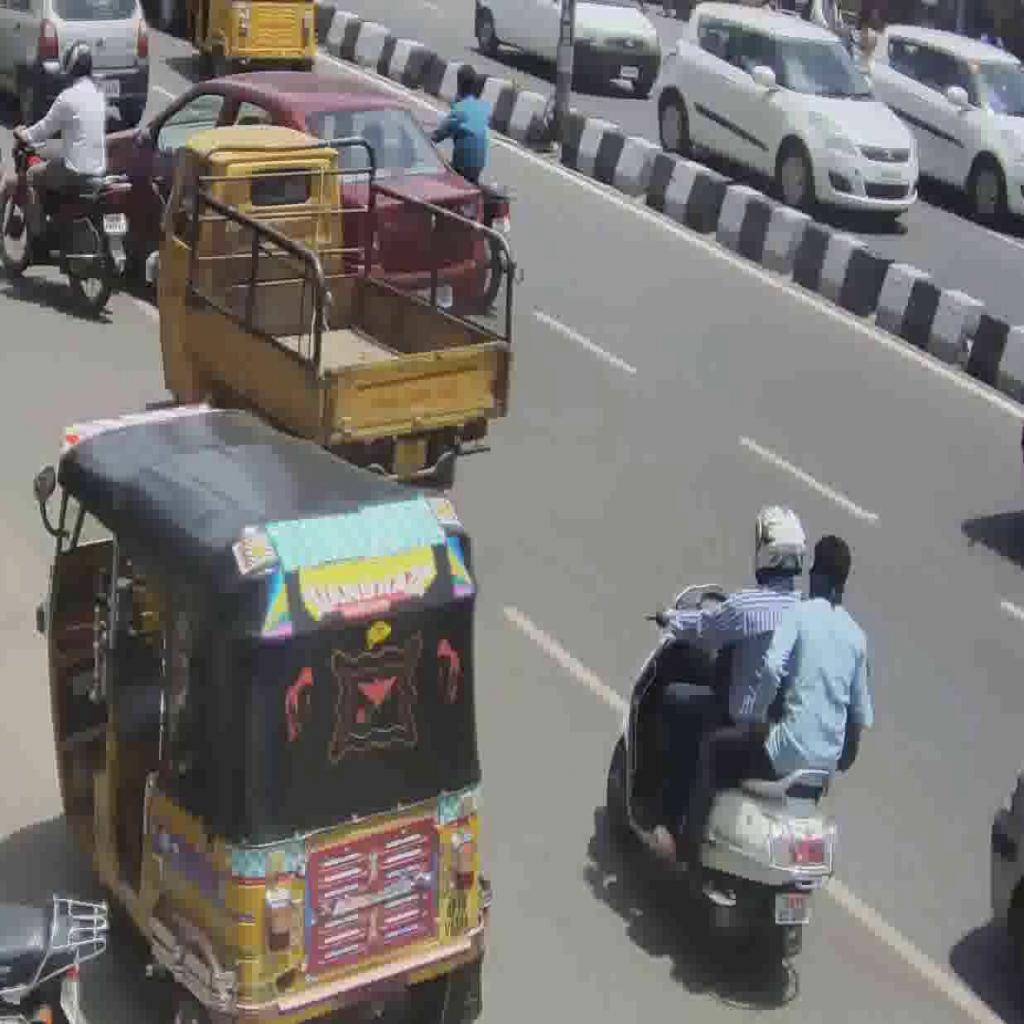helmet: (604, 577, 837, 996), (1, 124, 133, 315)
